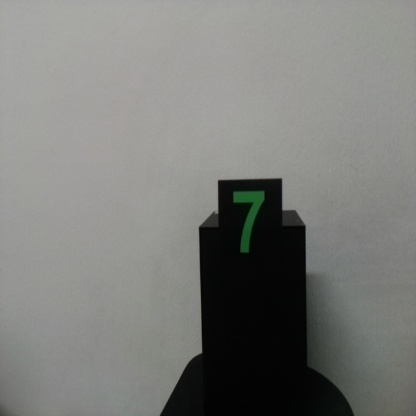id_7: (219, 181, 282, 271)
